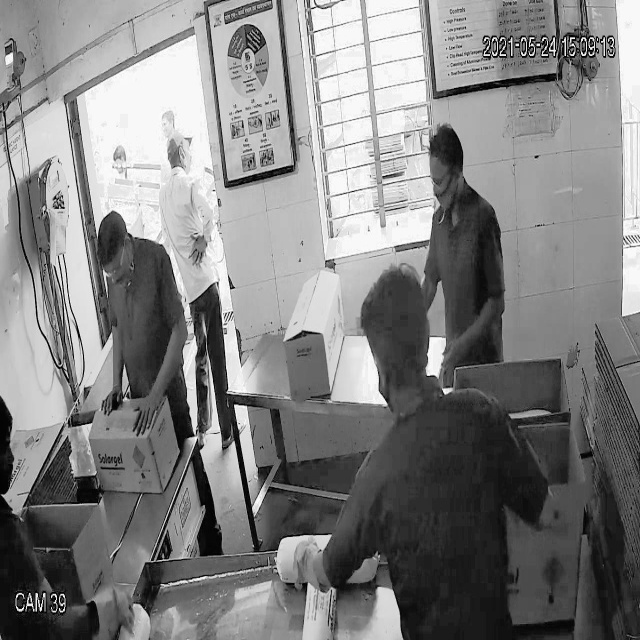Gafas: (98, 232, 127, 285)
